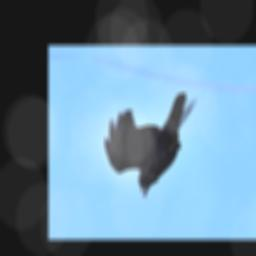Crow: (93, 83, 200, 200)
